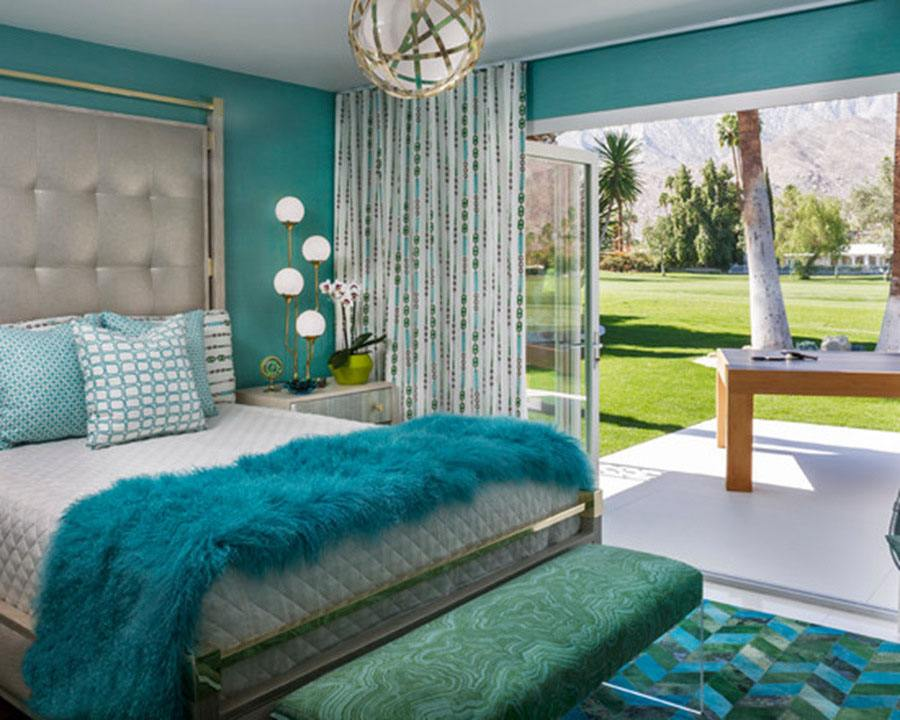床: (2, 403, 624, 703)
枕头: (10, 311, 228, 448)
灯: (349, 1, 494, 104), (277, 192, 336, 389)
